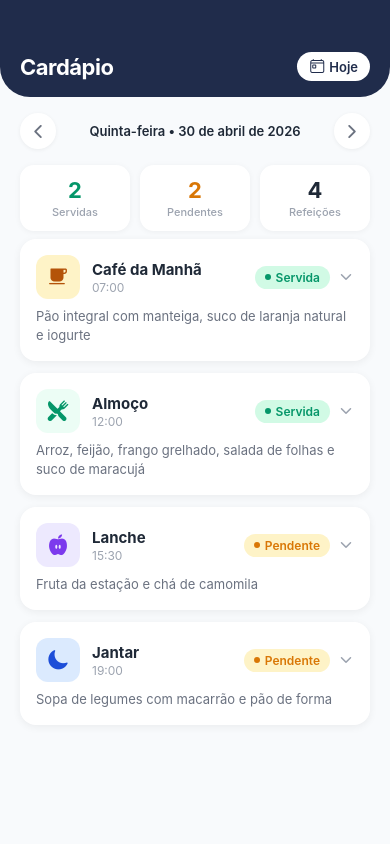
CardapioPage › deve permitir navegar para outros dias
Check: the text "Café da Manhã" is shown, box [92,260,202,278]
Navega para o próximo dia
Click the element named "Próximo dia": {"x": 352, "y": 131} [334,113,370,149]
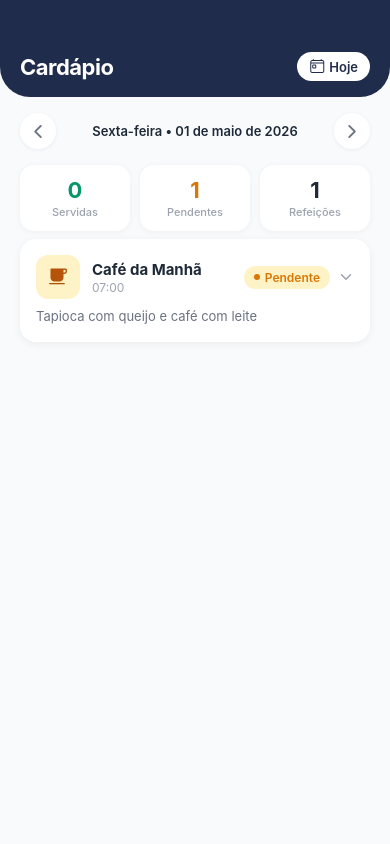
Check: the text "Tapioca com queijo e café com leite" is shown, box [36,308,257,324]
